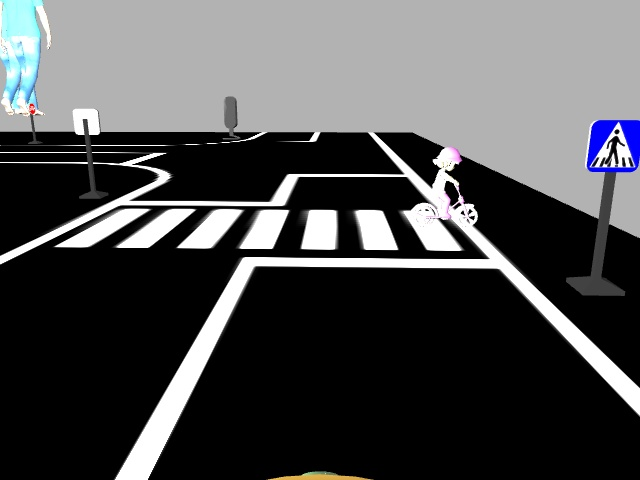Crosswalk: (583, 114, 638, 175)
Pedestrian: (417, 143, 481, 229)
